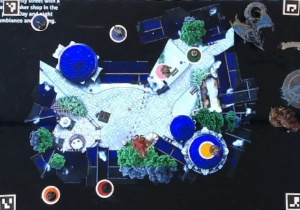blue: (30, 12, 51, 32)
green: (184, 46, 201, 64)
orange: (41, 183, 61, 205)
pink: (155, 64, 172, 80)
red: (92, 177, 116, 199)
violet: (106, 22, 128, 43)
yellow: (198, 140, 219, 160)
